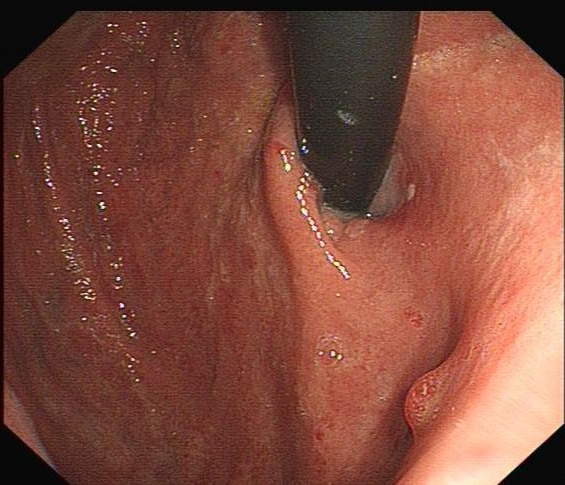Polyp: (398, 355, 452, 435)
